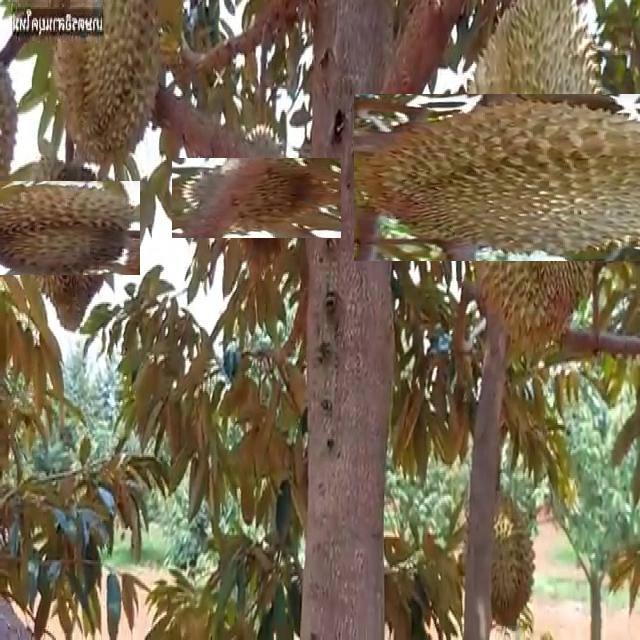durian: (401, 46, 640, 308), (48, 0, 163, 170), (194, 135, 319, 261), (2, 165, 125, 290), (472, 482, 537, 633)
